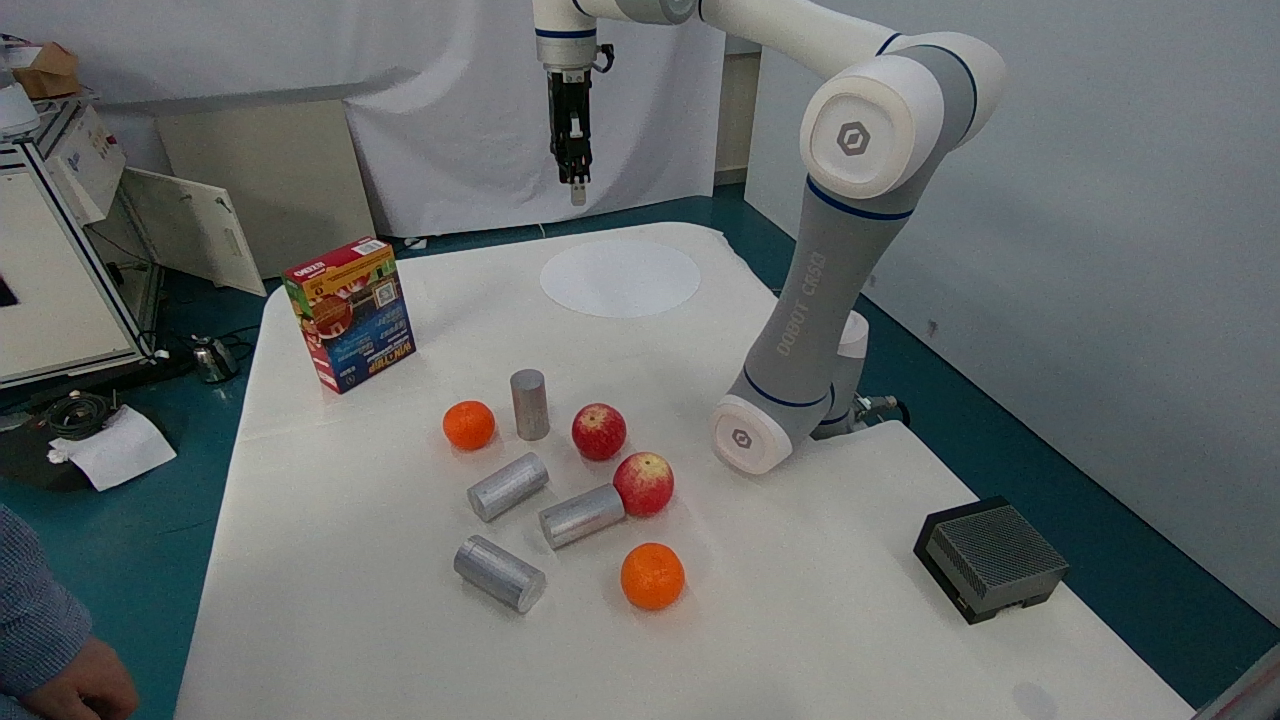apple: (562, 388, 645, 473), (605, 438, 687, 522)
metal rod: (440, 517, 559, 628), (447, 442, 567, 535), (530, 469, 630, 553), (498, 343, 556, 444)
orange: (616, 531, 687, 615), (431, 388, 507, 460)
